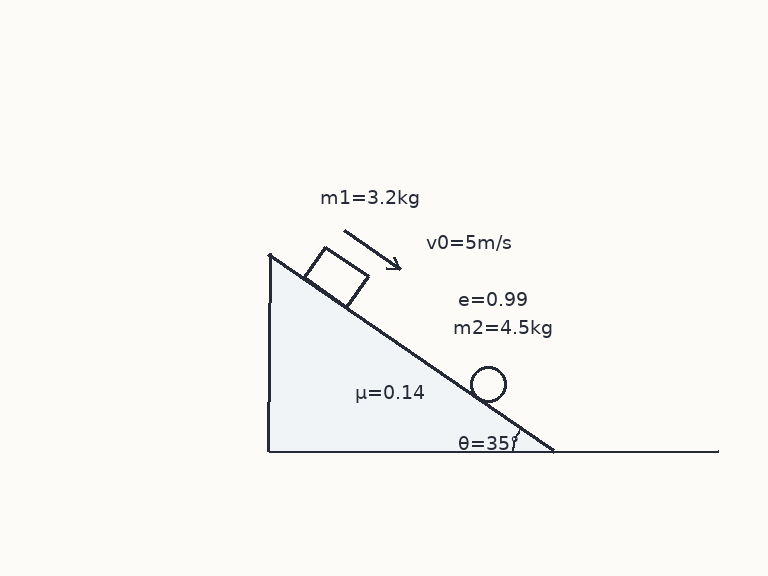ball: (468, 364, 508, 404)
block: (302, 245, 369, 309)
ramp: (268, 252, 555, 454)
